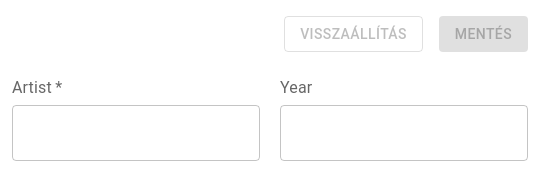
TopicItemForm saving › validates year fields against configured minimum and maximum values
Type "Leonardo da Vinci" into the field with test id "form-input-artist" at (136, 133), box top-left (12, 105), bottom-right (260, 161)
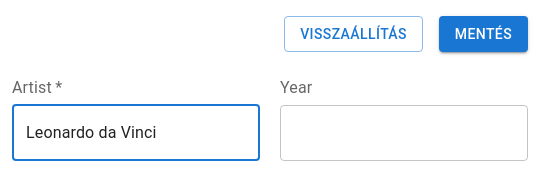
Type "1490" into the number field with test id "form-input-year" at (404, 133), box top-left (280, 105), bottom-right (528, 161)
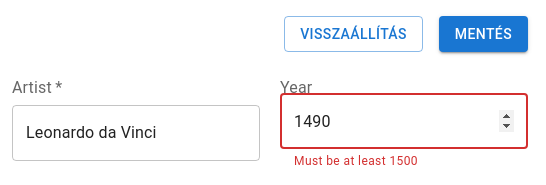
Expected: the text "Must be at least 1500" is shown, top-left (294, 154), bottom-right (418, 168)
Clear the number field with test id "form-input-year" at (404, 121), box top-left (280, 93), bottom-right (528, 149)
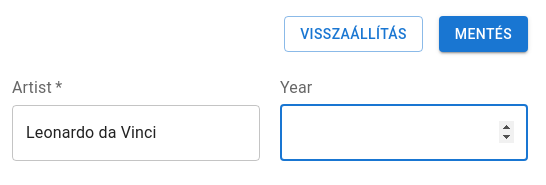
Type "1605" into the number field with test id "form-input-year" at (404, 133), box top-left (280, 105), bottom-right (528, 161)
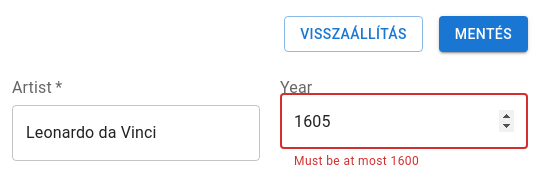
Expected: the text "Must be at most 1600" is shown, top-left (294, 154), bottom-right (419, 168)
